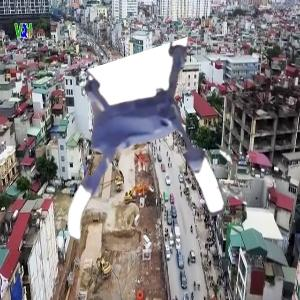drone: (38, 61, 227, 250)
